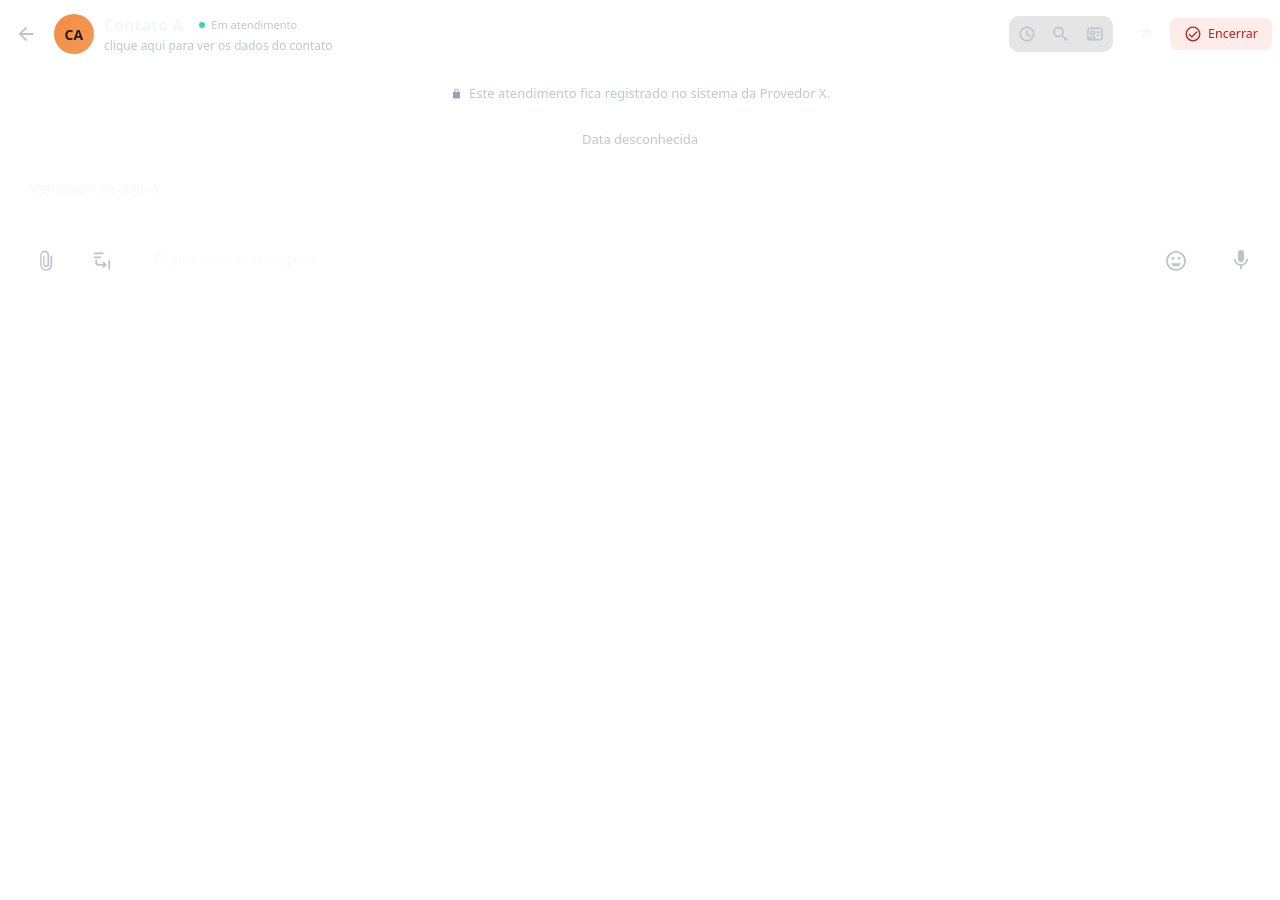
Test: trocar de conversa com a consulta do SGP no caminho › o painel recomeça em cada conversa: o "enviado" de A não aparece em B
This screenshot has width=1280, height=900.
Step 1. Click the button named "Consultar SGP" → {"x": 1061, "y": 34}, box x1=1045 y1=18 x2=1077 y2=50
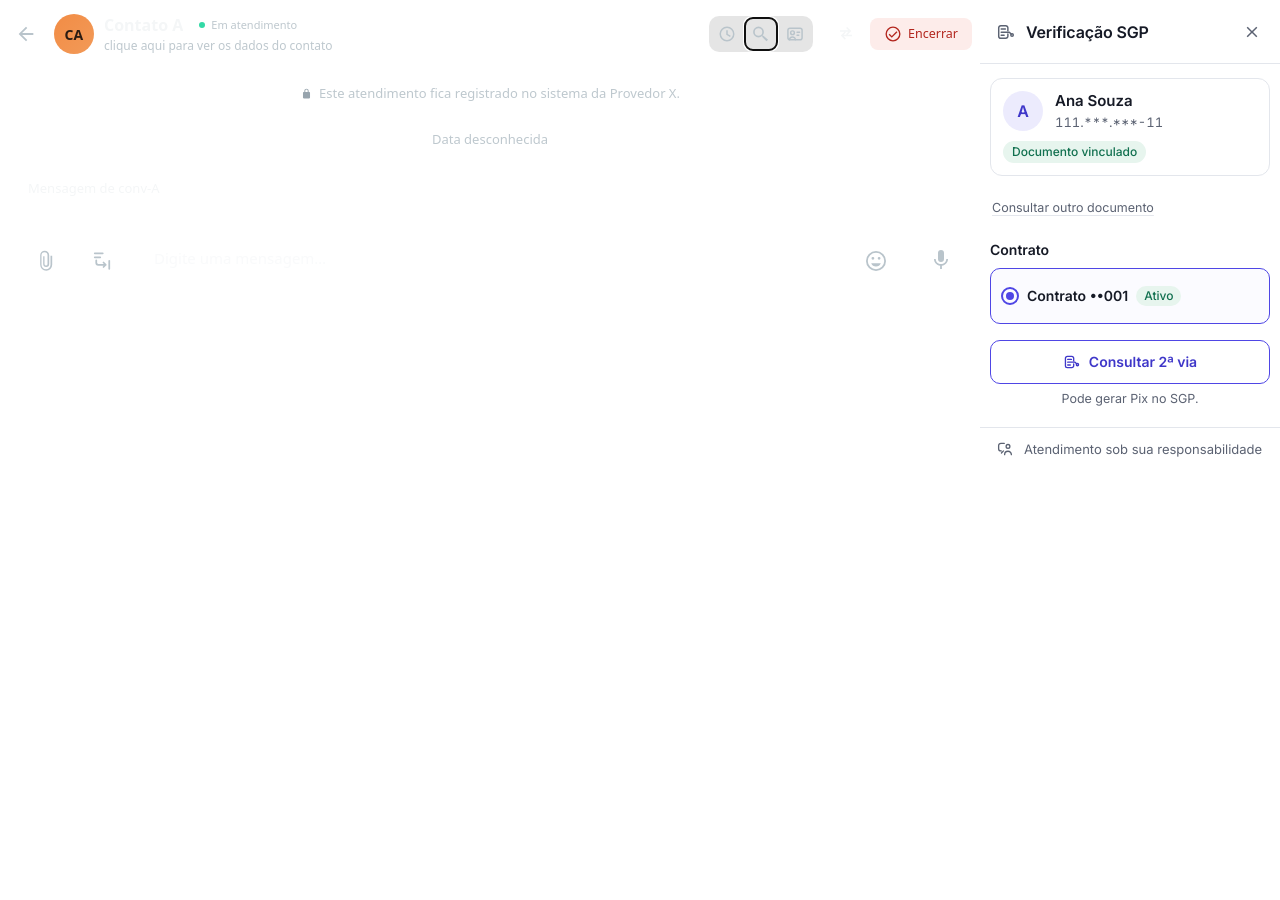
Now the element named "Consulta SGP" is shown, box x1=980 y1=0 x2=1279 y2=470
Step 2. Click the button "Consultar 2ª via" → {"x": 1130, "y": 362}, box x1=990 y1=340 x2=1270 y2=384
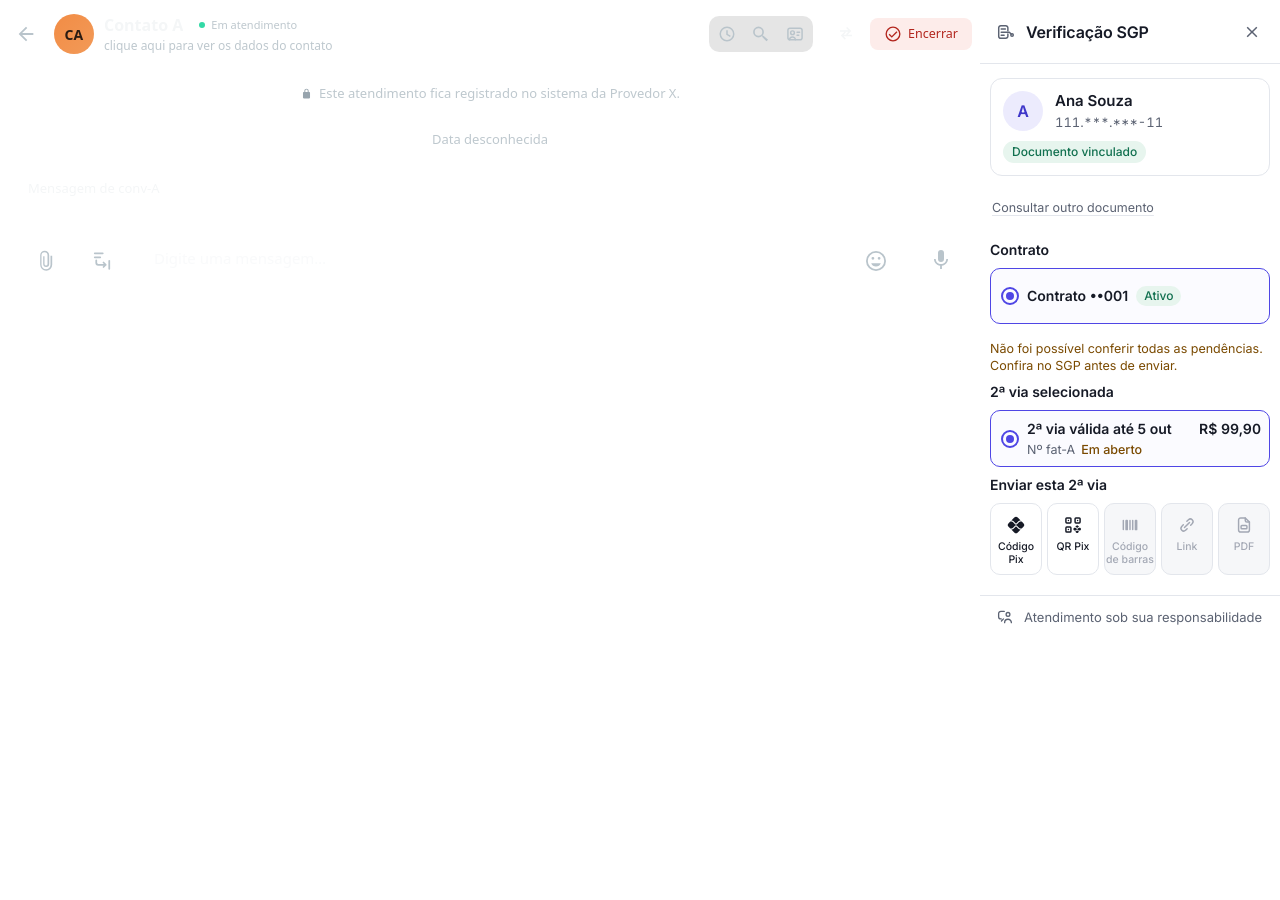
Step 3. Click the button "Código Pix" → {"x": 1016, "y": 539}, box x1=990 y1=503 x2=1042 y2=575
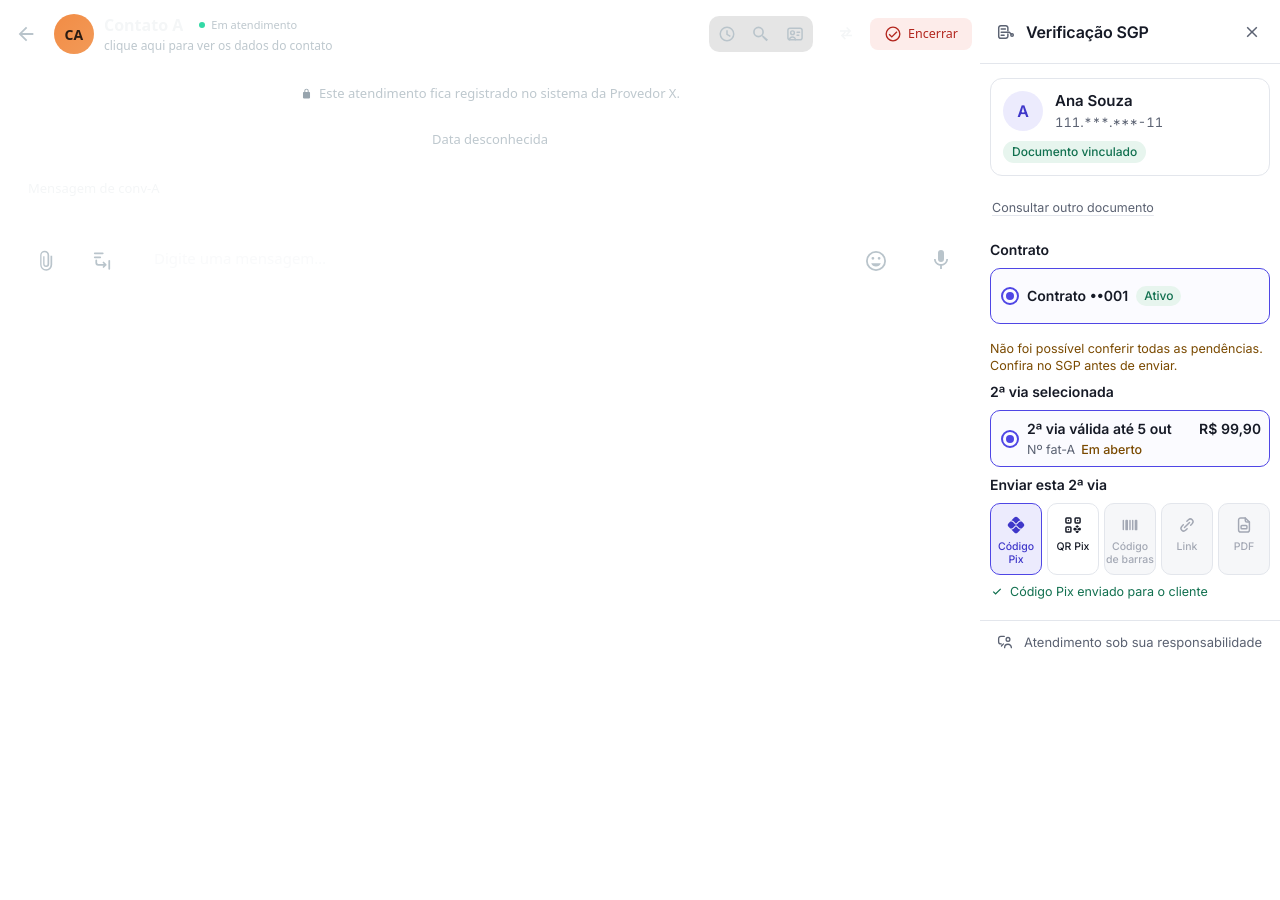
Now the text "Código Pix enviado para o cliente" is shown, box x1=990 y1=584 x2=1208 y2=599
